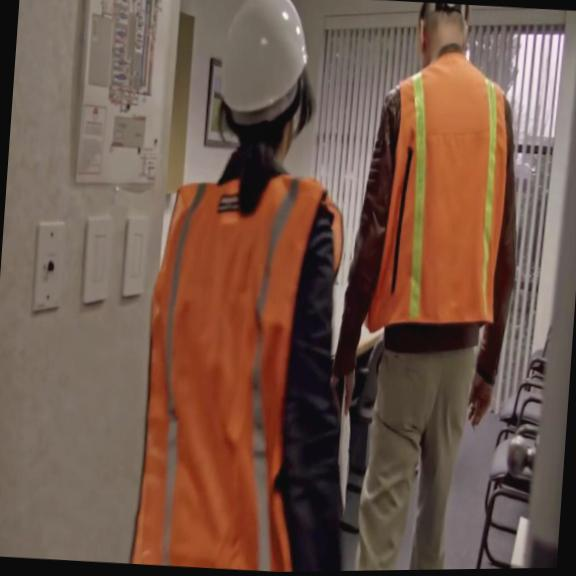safety_vest: (127, 165, 351, 574), (363, 43, 515, 344)
